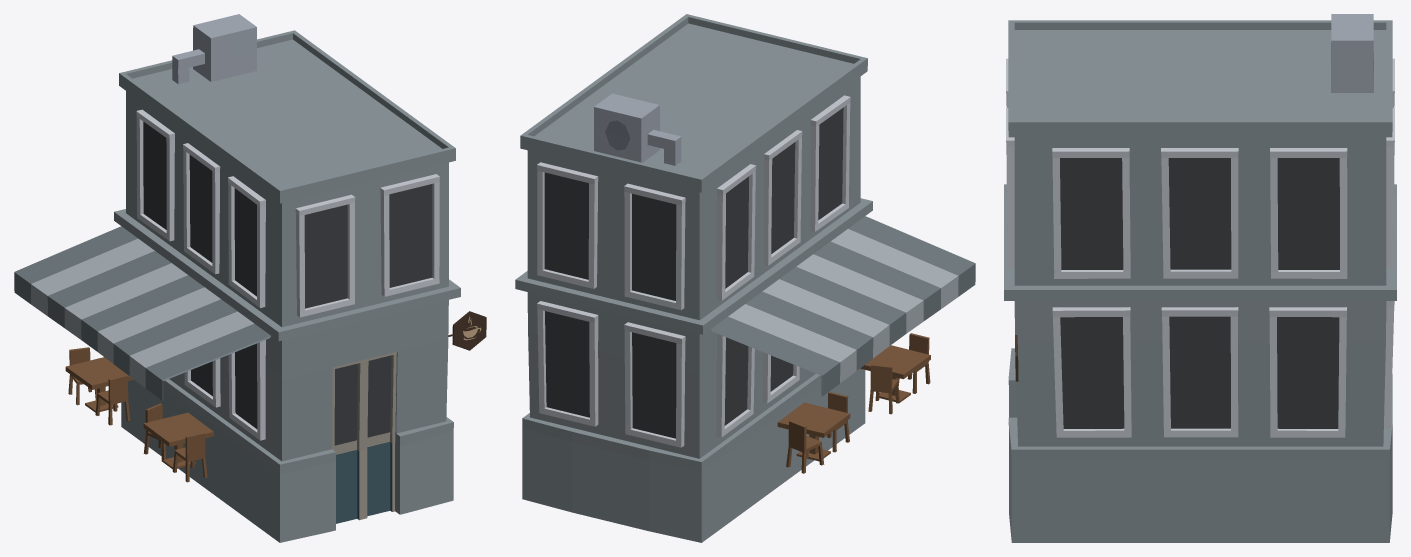
The model's file is Building_CoffeHouse.fbx.
3 renders of one model, left to right at view 1: azimuth 30°, elevation 25°; view 2: azimuth 150°, elevation 25°; view 3: azimuth 270°, elevation 25°, orthographic. The views are drawn at different scales.
Visible parts, largest first — view 1: Building_CoffeHouse; view 2: Building_CoffeHouse; view 3: Building_CoffeHouse.
Boxes of the visible parts, left/top/right/bottom form: Building_CoffeHouse: left=14, top=14, right=486, bottom=542; Building_CoffeHouse: left=515, top=14, right=975, bottom=542; Building_CoffeHouse: left=1004, top=14, right=1396, bottom=542.
Bounding box in the file's own units: 971 × 1130 × 864.
